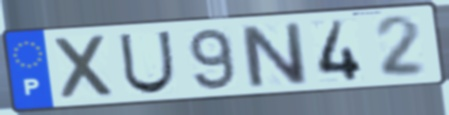2: (373, 14, 430, 79)
4: (314, 17, 365, 83)
9: (184, 27, 239, 92)
N: (236, 20, 312, 90)
U: (116, 29, 177, 97)
X: (51, 32, 119, 103)
